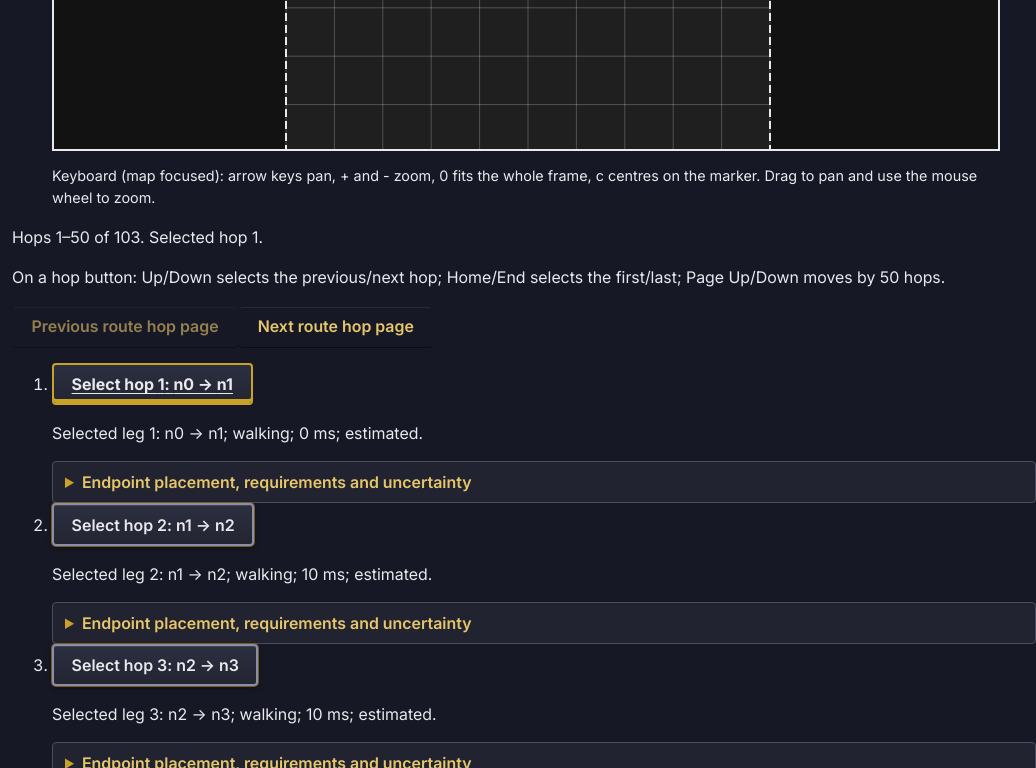
Test case: keeps the tail reachable with global keyboard selection and page controls, including focus
(page scrolled)
Press End in the button "Select hop 1: n0 → n1", box left=52, top=363, right=252, bottom=405
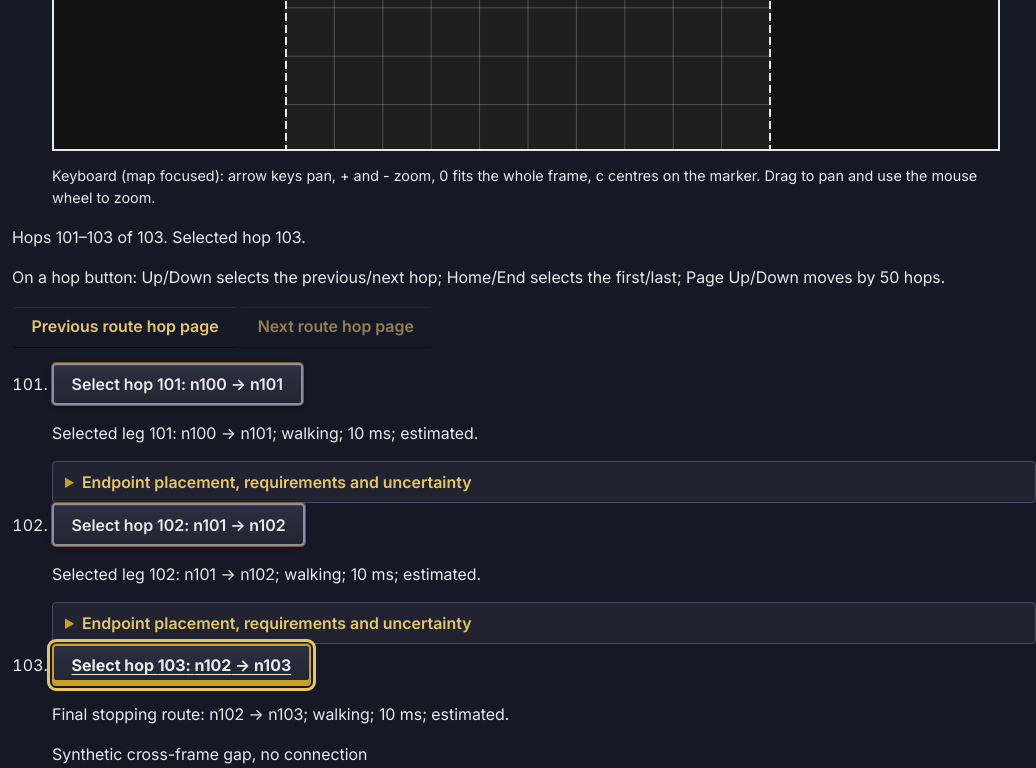
Expected: the number of buttons "Select hop 101: n100 → n101" is 3, left=52, top=363, right=302, bottom=405; left=52, top=503, right=305, bottom=546; left=52, top=644, right=311, bottom=686
Expected: the text "Synthetic cross-frame gap, no connection" is shown, left=52, top=744, right=367, bottom=764
Expected: the button "Next route hop page" is disabled, left=238, top=305, right=433, bottom=347
Click the button "Previous route hop page" at (125, 326), box left=12, top=305, right=238, bottom=347
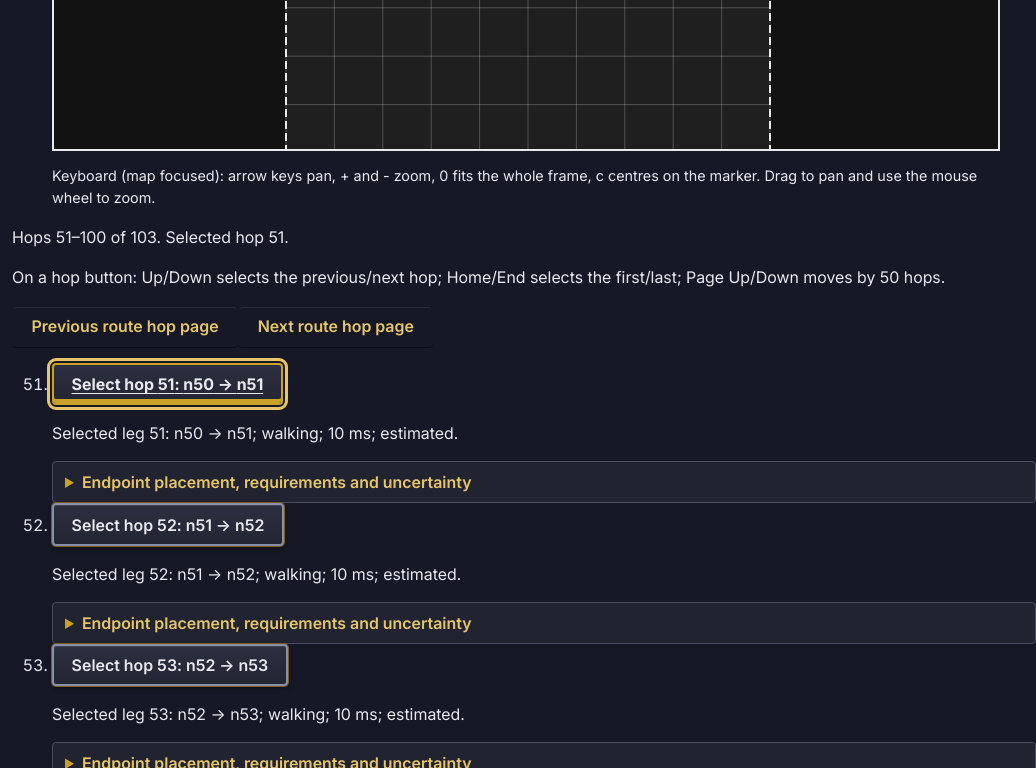
Click the button "Next route hop page" at (336, 326), box left=238, top=305, right=433, bottom=347
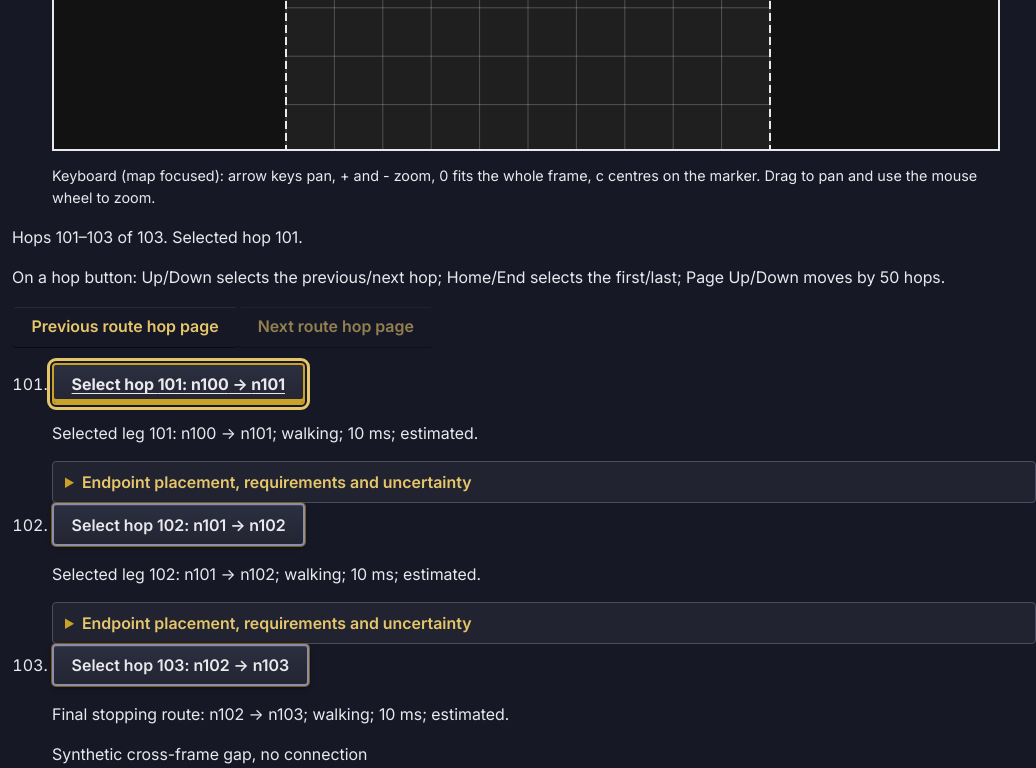
Press Home in the button "Select hop 101: n100 → n101", box left=52, top=363, right=305, bottom=405
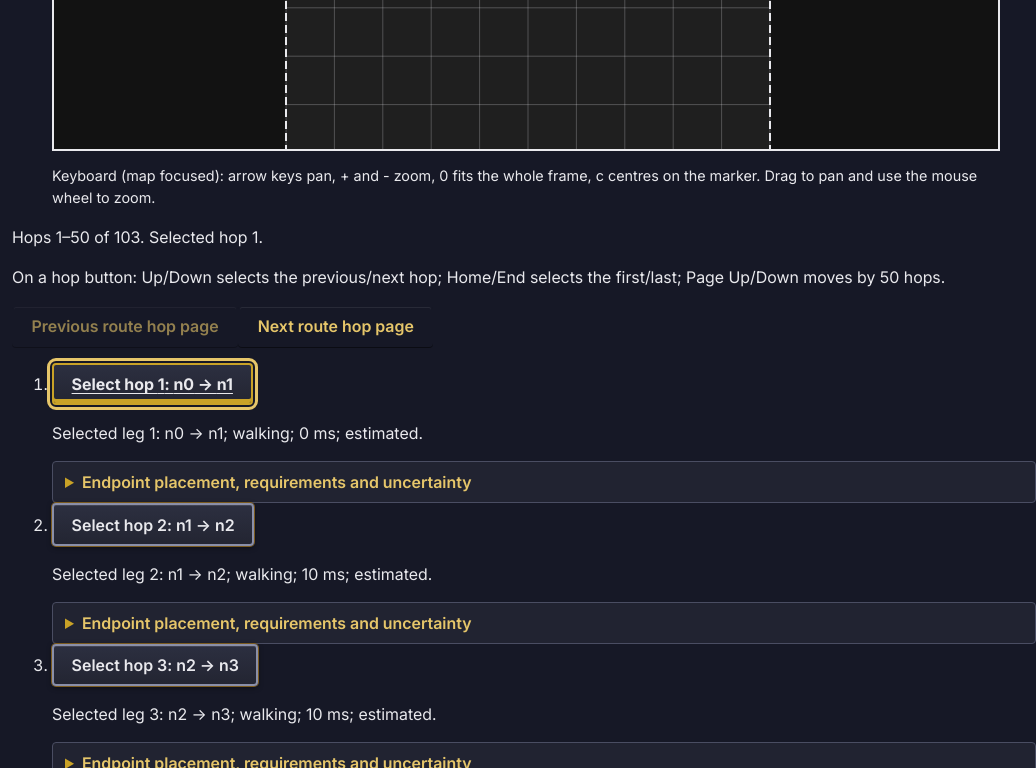
Expected: the button "Previous route hop page" is disabled, left=12, top=305, right=238, bottom=347
